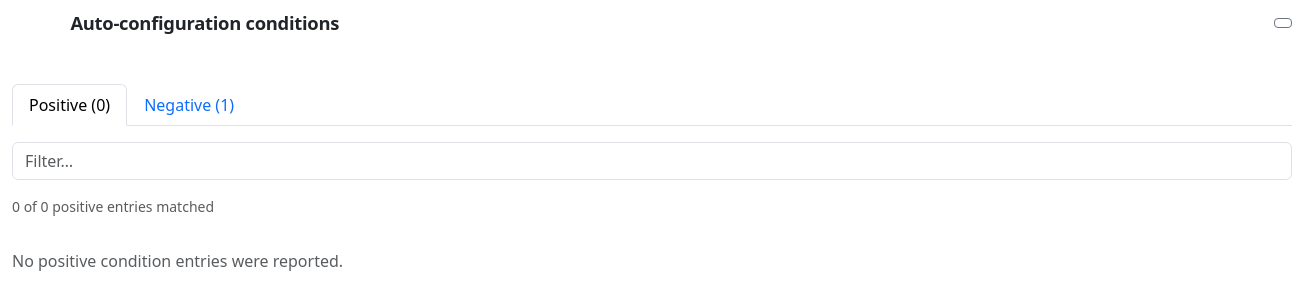
Test: Conditions › separates "nothing was reported" from "nothing matched the filter"
The image size is (1304, 288).
Expected: the text "match your filter" is not shown
Type "nothing-matches-this" into the field with placeholder "Filter…".
click(652, 161); type("nothing-matches-this")  # box [12,142,1292,180]
Wait 250 ms
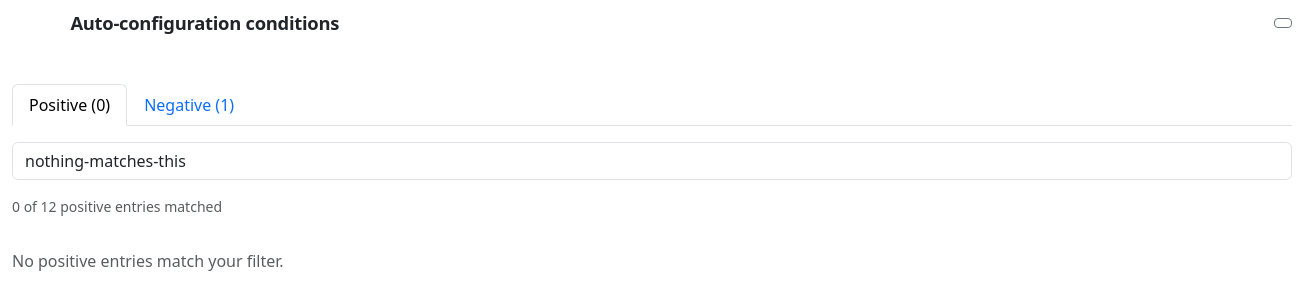
Now the text "No positive entries match your filter." is shown, box [12,250,284,272]
Now the text "were reported" is gone
